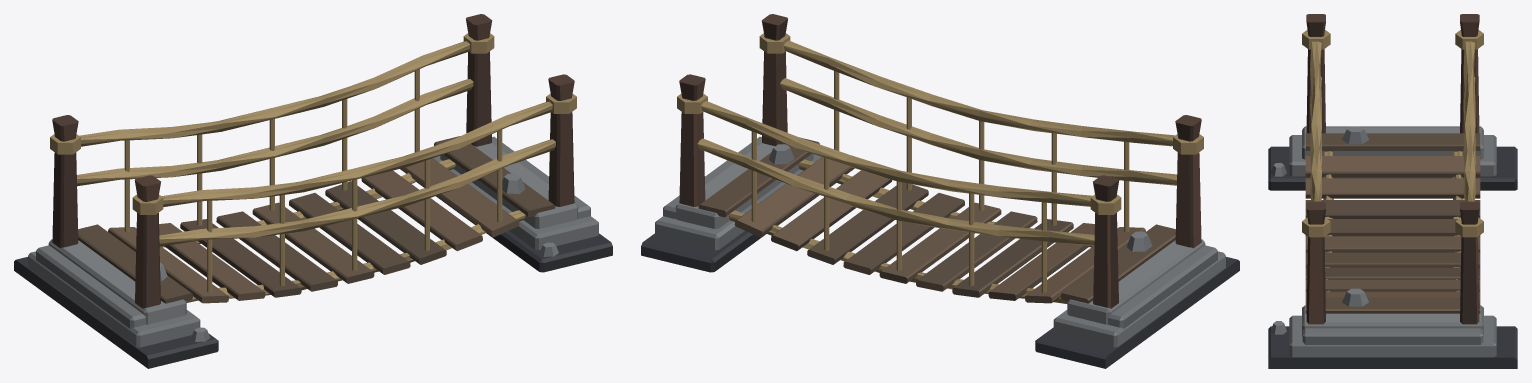
The model's file is rope-bridge-span-159f8c.glb.
3 views of the same model, side by side, from view 1: azimuth 30°, elevation 25°; view 2: azimuth 150°, elevation 25°; view 3: azimuth 270°, elevation 25° (orthographic). The views are drawn at different scales.
Visible parts, largest first — view 1: span; view 2: span; view 3: span.
Boxes of the visible parts, x1=… form: span: x1=14, y1=14, x2=612, y2=368; span: x1=641, y1=14, x2=1239, y2=368; span: x1=1268, y1=14, x2=1517, y2=368.
Bounding box in the file's own units: 4 × 1.34 × 2.
